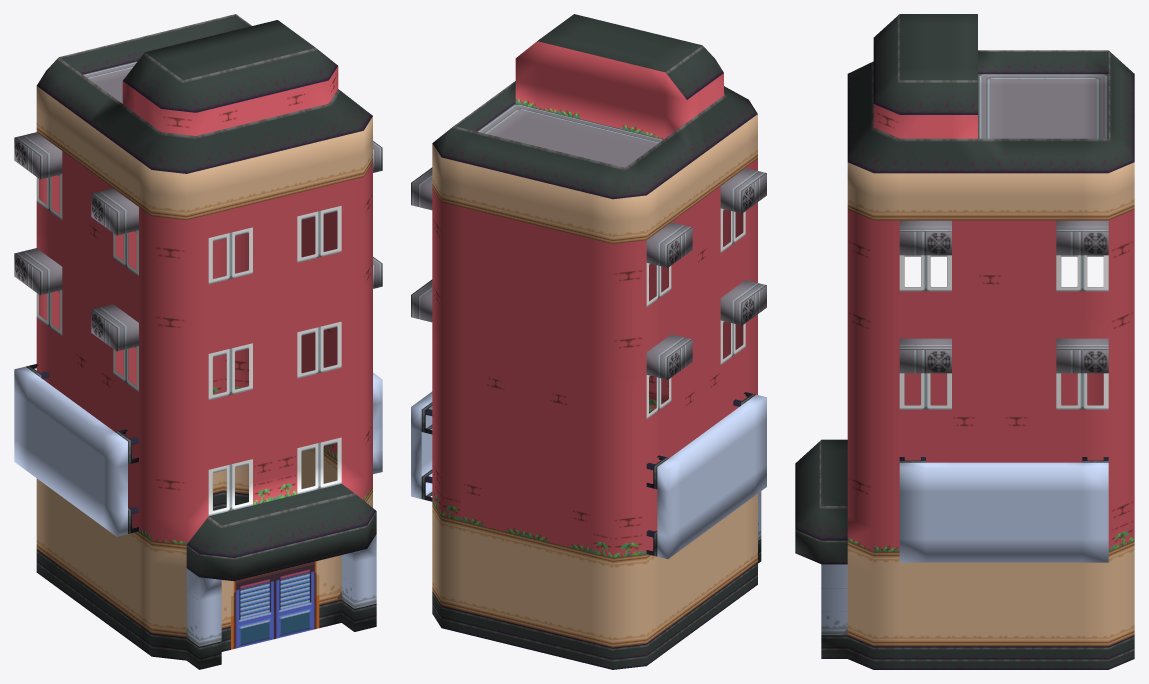
The model's file is Mesh_Building_Tall-Shop.fbx.
3 views of the same model, side by side, from view 1: azimuth 30°, elevation 25°; view 2: azimuth 150°, elevation 25°; view 3: azimuth 270°, elevation 25° (orthographic). The views are drawn at different scales.
Visible parts, largest first — view 1: building, parts; view 2: building, parts; view 3: building, parts.
Part boxes in pixels (x1,y1,x2,y2): building: [36, 14, 376, 669]; parts: [14, 132, 382, 536]; building: [432, 14, 761, 669]; parts: [411, 167, 766, 559]; building: [795, 14, 1134, 669]; parts: [899, 220, 1108, 562].
Size of the model in its own units: 1200 by 2400 by 1300.
